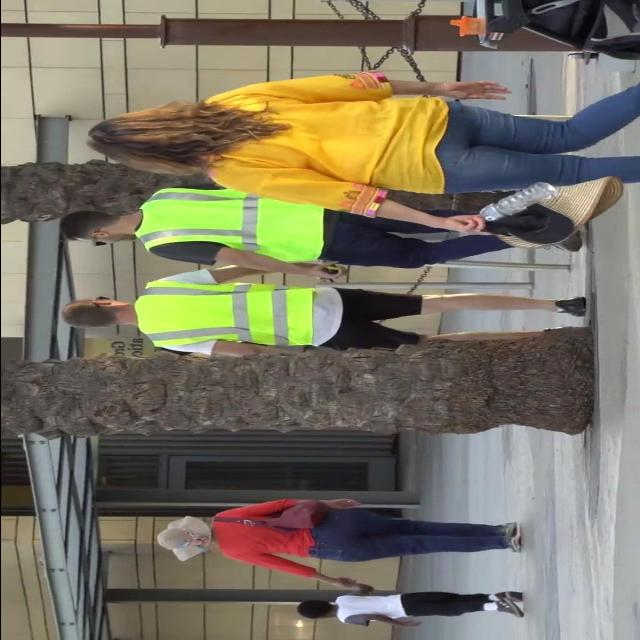jacket: (130, 181, 336, 266), (127, 273, 321, 354)
